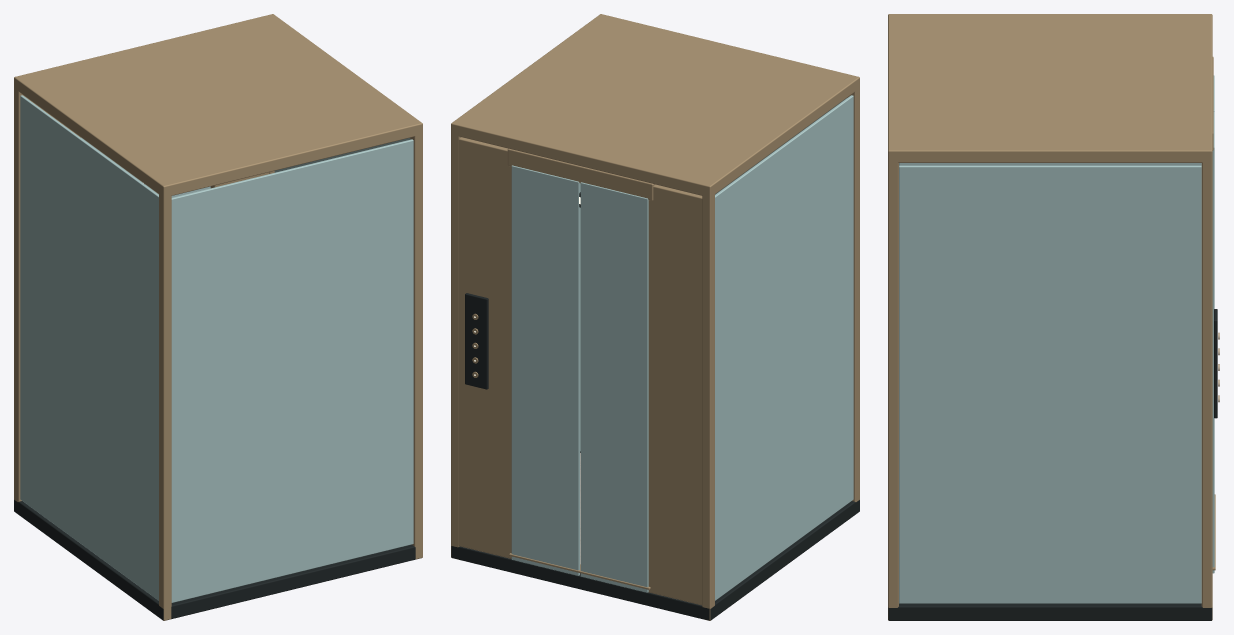
Rendered from studio-glass-lift.glb.
3 views of the same model, side by side, from view 1: azimuth 30°, elevation 25°; view 2: azimuth 150°, elevation 25°; view 3: azimuth 270°, elevation 25° (orthographic). The views are drawn at different scales.
Visible parts, largest first — view 1: glass_surfaces, bronze_surfaces, dark_surfaces; view 2: glass_surfaces, bronze_surfaces, dark_surfaces; view 3: glass_surfaces, bronze_surfaces, dark_surfaces.
Part boxes in pixels (left/top/right/bottom): glass_surfaces: left=20, top=95, right=413, bottom=602; bronze_surfaces: left=14, top=14, right=422, bottom=620; dark_surfaces: left=14, top=500, right=415, bottom=620; glass_surfaces: left=511, top=95, right=853, bottom=600; bronze_surfaces: left=451, top=14, right=859, bottom=620; dark_surfaces: left=451, top=192, right=859, bottom=620; glass_surfaces: left=899, top=75, right=1214, bottom=603; bronze_surfaces: left=888, top=14, right=1219, bottom=620; dark_surfaces: left=888, top=309, right=1217, bottom=620.
Size of the model in its own units: 1.5 by 2.4 by 1.53.
5 materials, 1 textured.
